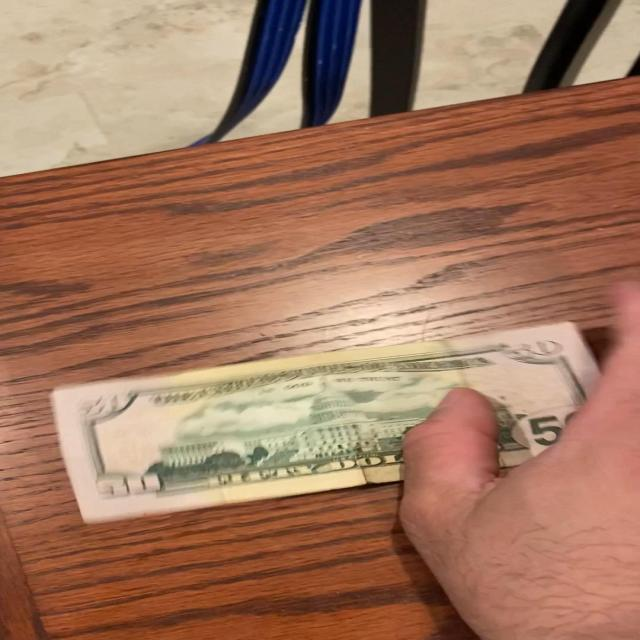50-Back: (40, 320, 615, 530)
